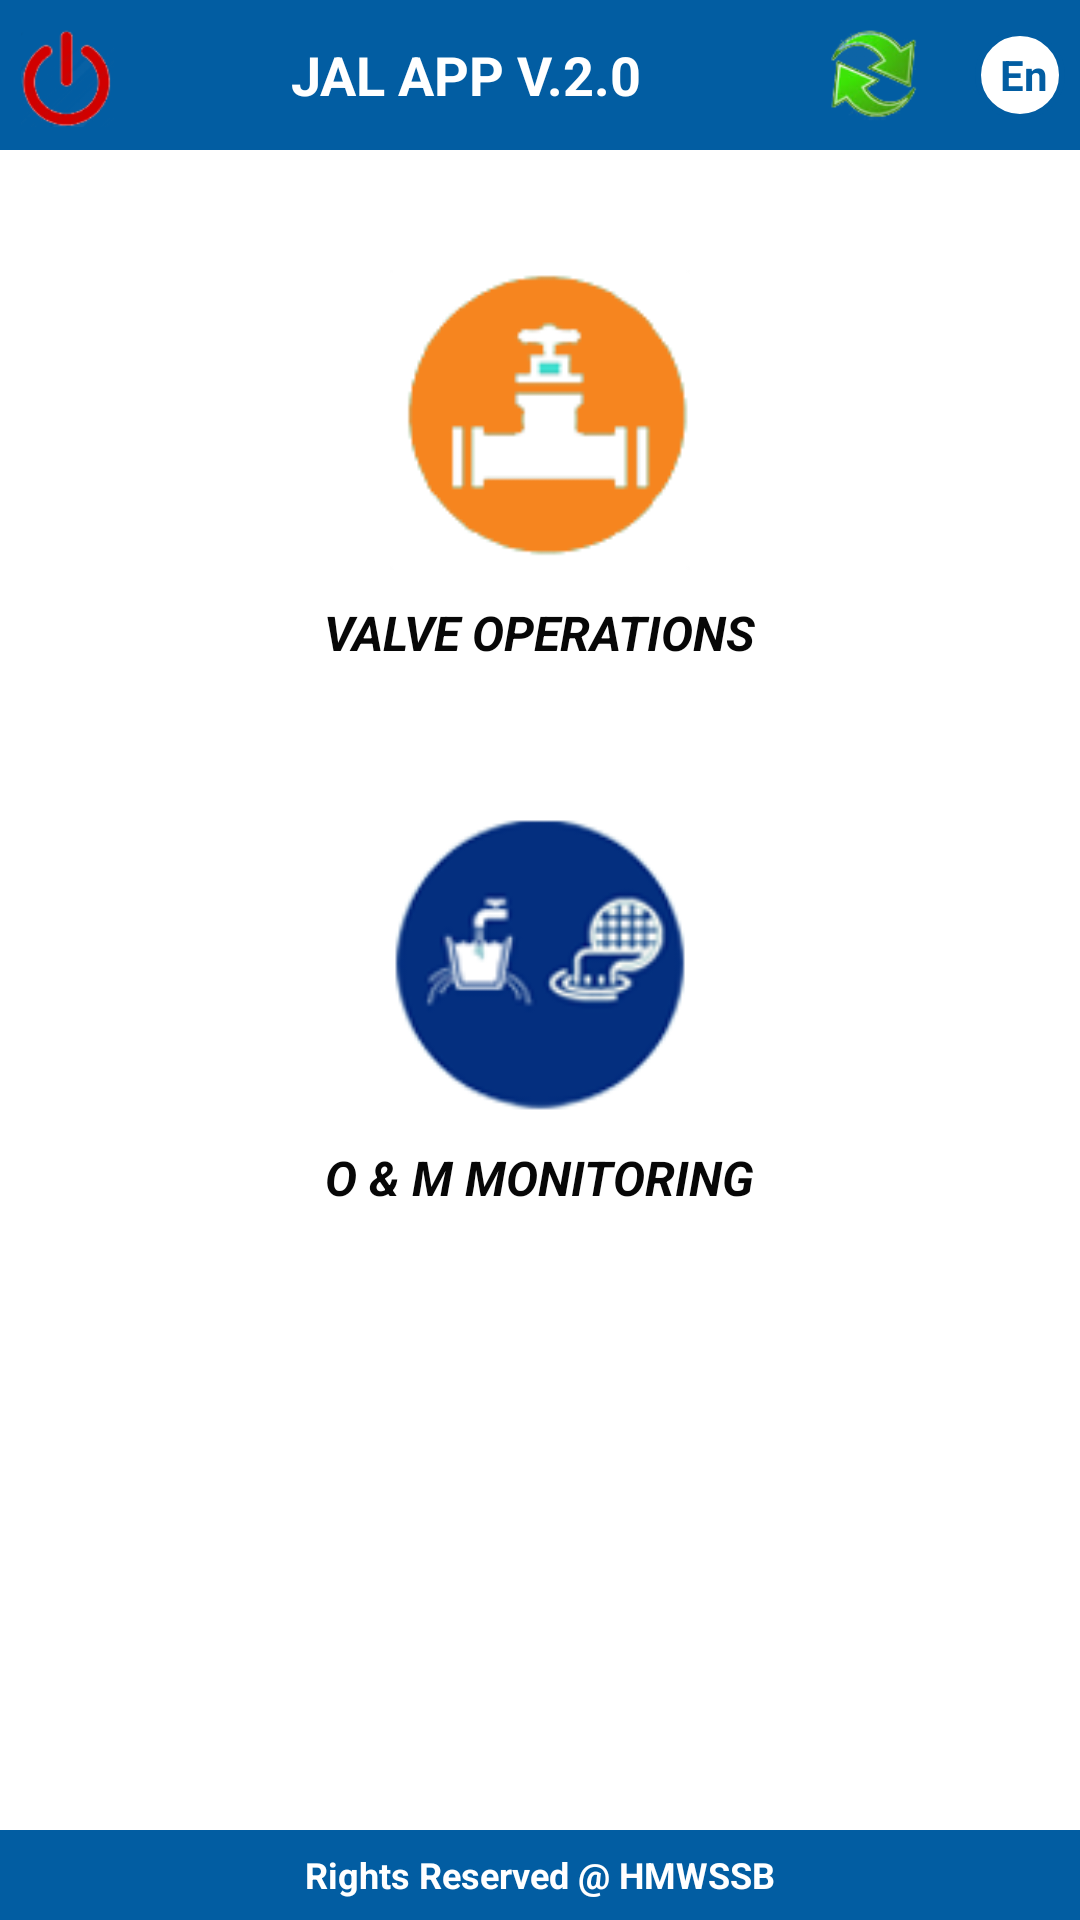

Screen size 1080*1920. Icon name, then its center in pixels as (x,y):
refresh: (873,73)
